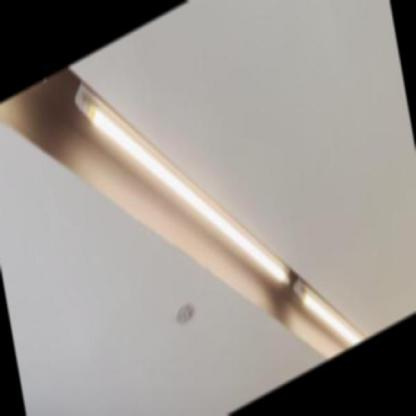light_on: (68, 0, 294, 378), (293, 247, 371, 370)
